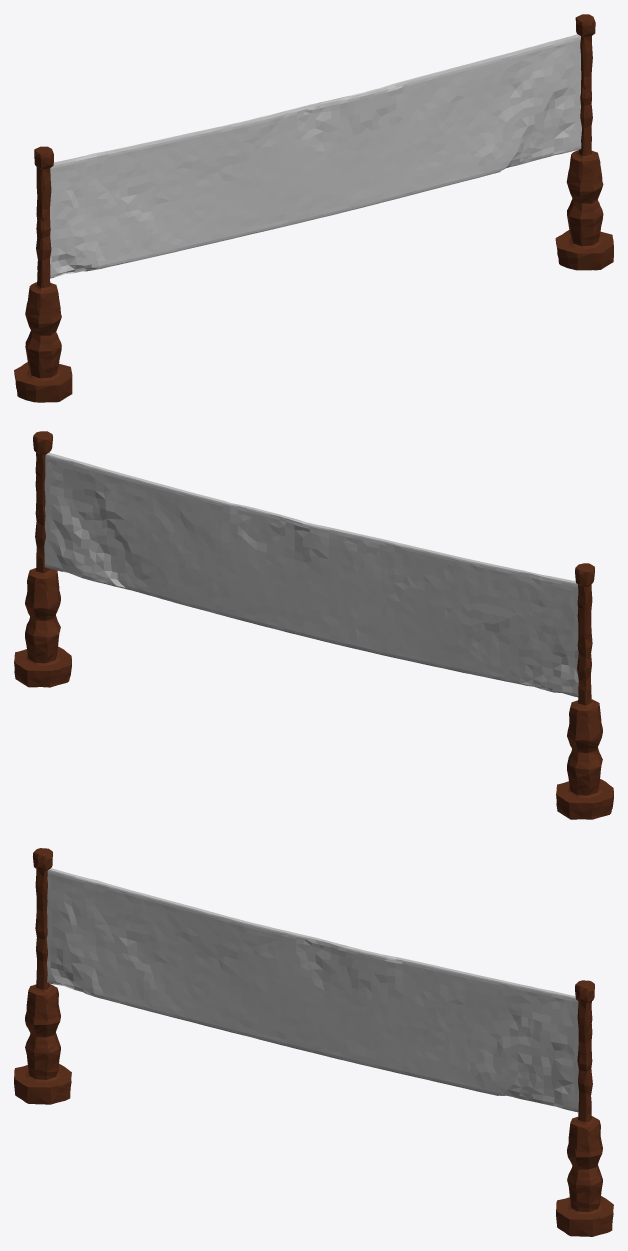
Rendered from DesertLandSnakeFlag0077.obj.
The picture shows the model from 3 angles, top to bottom: view 1: azimuth 30°, elevation 25°; view 2: azimuth 150°, elevation 25°; view 3: azimuth 330°, elevation 25°; orthographic projection.
Parts seen in each view (by area): view 1: Cube.003, Cube, Cube.002; view 2: Cube.003, Cube, Cube.002; view 3: Cube.003, Cube.002, Cube.
Boxes of the visible parts, left/top/right/bottom form: Cube.003: left=50, top=34, right=581, bottom=278; Cube: left=14, top=146, right=72, bottom=402; Cube.002: left=555, top=14, right=613, bottom=270; Cube.003: left=44, top=452, right=578, bottom=697; Cube: left=556, top=563, right=613, bottom=819; Cube.002: left=14, top=431, right=71, bottom=687; Cube.003: left=46, top=868, right=578, bottom=1112; Cube.002: left=556, top=980, right=613, bottom=1236; Cube: left=14, top=848, right=71, bottom=1104.
Size of the model in its own units: 27.57 by 10.7 by 2.57.
